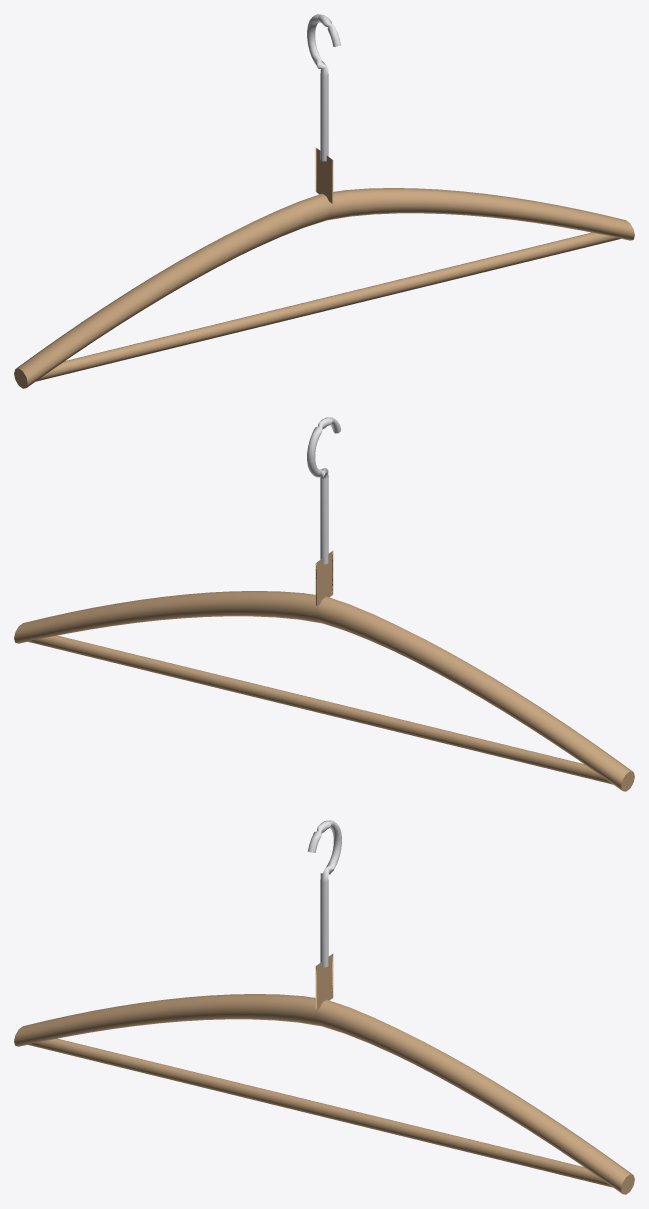
The model's file is hanger_std.glb.
The picture shows the model from 3 angles, top to bottom: view 1: azimuth 30°, elevation 25°; view 2: azimuth 150°, elevation 25°; view 3: azimuth 330°, elevation 25°; orthographic projection.
Visible parts, largest first — view 1: hanger_std; view 2: hanger_std; view 3: hanger_std.
Part boxes in pixels (x1,y1,x2,y2): hanger_std: [14, 14, 634, 388]; hanger_std: [14, 417, 634, 791]; hanger_std: [14, 820, 634, 1194].
Size of the model in its own units: 0.43 by 0.201 by 0.037.
